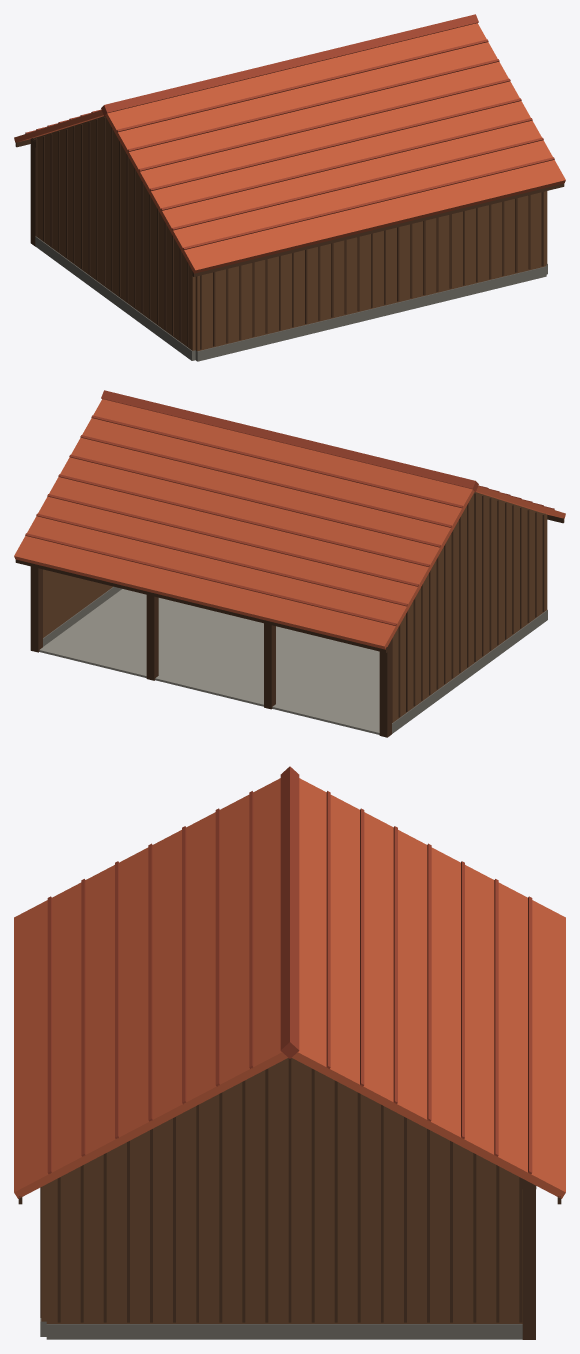
The model's file is building_garage.glb.
3 renders of one model, top to bottom at view 1: azimuth 30°, elevation 25°; view 2: azimuth 150°, elevation 25°; view 3: azimuth 270°, elevation 25°, orthographic. The views are drawn at different scales.
Visible parts, largest first — view 1: building_garage.001; view 2: building_garage.001; view 3: building_garage.001.
Part boxes in pixels (x1=…): building_garage.001: x1=14, y1=14, x2=565, y2=361; building_garage.001: x1=14, y1=390, x2=565, y2=737; building_garage.001: x1=14, y1=766, x2=565, y2=1339.
Bounding box in the file's own units: 15.55 × 7.97 × 13.15.
1 material, 1 textured.
